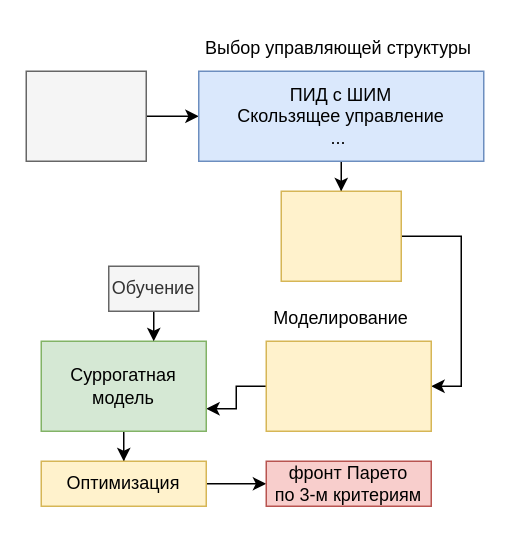
Some shapes in this 510 by 533 pixel diagram are drawn without their labels. Each missing label, with the centre of its shape:
Входные параметры: (85,115)
Генерация выборок: (340,235)
Полная модель: (348,385)
